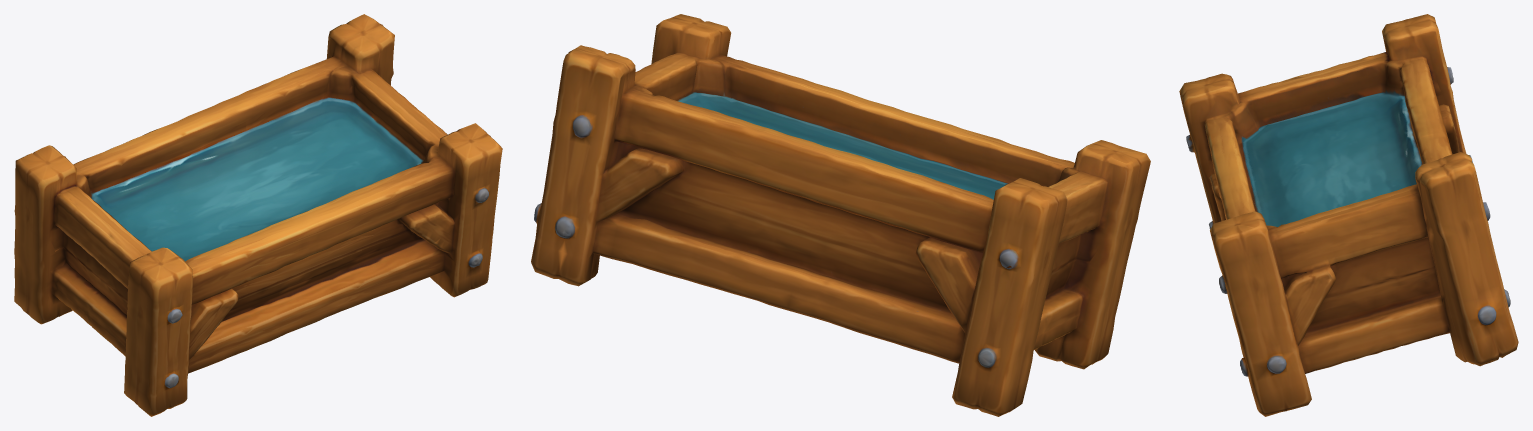
Rendered from wooden_watering.glb.
3 renders of one model, left to right at view 1: azimuth 30°, elevation 25°; view 2: azimuth 150°, elevation 25°; view 3: azimuth 270°, elevation 25°, orthographic. The views are drawn at different scales.
Visible parts, largest first — view 1: tripo_node_d227669b-7b08-4f08-9bc4-cc139587eaea; view 2: tripo_node_d227669b-7b08-4f08-9bc4-cc139587eaea; view 3: tripo_node_d227669b-7b08-4f08-9bc4-cc139587eaea.
Part boxes in pixels (x1,y1,x2,y2): tripo_node_d227669b-7b08-4f08-9bc4-cc139587eaea: (14, 14, 502, 416); tripo_node_d227669b-7b08-4f08-9bc4-cc139587eaea: (531, 14, 1150, 416); tripo_node_d227669b-7b08-4f08-9bc4-cc139587eaea: (1179, 14, 1518, 416).
Size of the model in its own units: 0.9781 by 0.5761 by 0.6413.
Materials: 1 (1 with a texture image).
